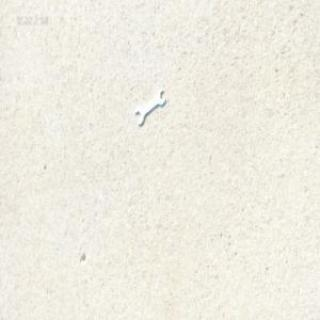Wrenchtrack_idkeyframe: (134, 88, 166, 126)
